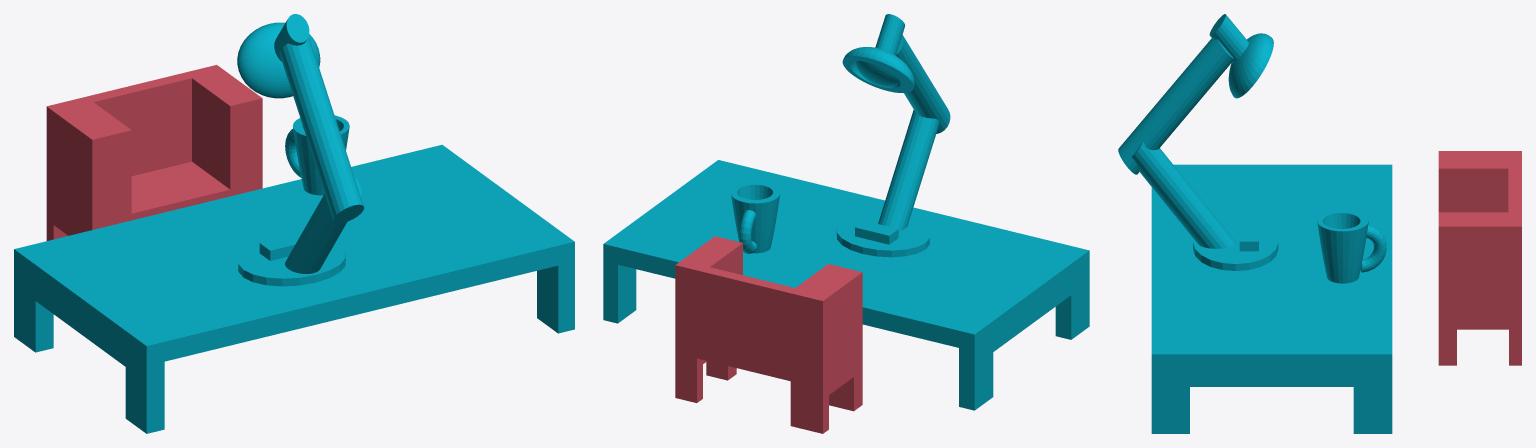
3 renders of one model, left to right at view 1: azimuth 30°, elevation 25°; view 2: azimuth 150°, elevation 25°; view 3: azimuth 270°, elevation 25°, orthographic. The views are drawn at different scales.
Visible parts, largest first — view 1: Mesh_Mesh_head_geo.001_lambert2SG.001; view 2: Mesh_Mesh_head_geo.001_lambert2SG.001; view 3: Mesh_Mesh_head_geo.001_lambert2SG.001.
Part boxes in pixels (box(x1,y1,x2,y2)): Mesh_Mesh_head_geo.001_lambert2SG.001: box(14, 14, 574, 433); Mesh_Mesh_head_geo.001_lambert2SG.001: box(603, 14, 1089, 433); Mesh_Mesh_head_geo.001_lambert2SG.001: box(1118, 14, 1521, 433).
Size of the model in its own units: 173 by 133 by 156.
